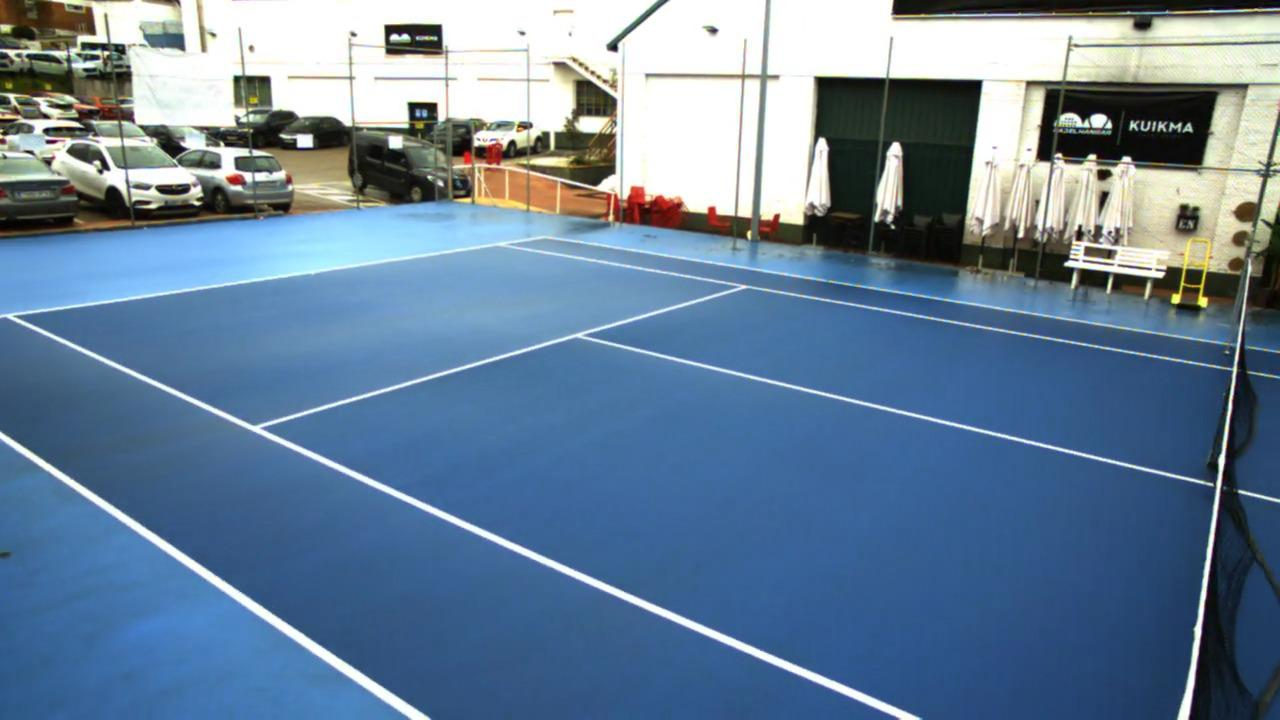cancha_tenis: (5, 241, 1280, 720)
point_f1: (0, 305, 28, 329)
point_f2: (487, 233, 519, 255)
point_fc1: (306, 266, 323, 283)
point_i1: (241, 414, 273, 443)
point_i2: (728, 276, 755, 297)
point_ic1: (566, 323, 599, 346)
